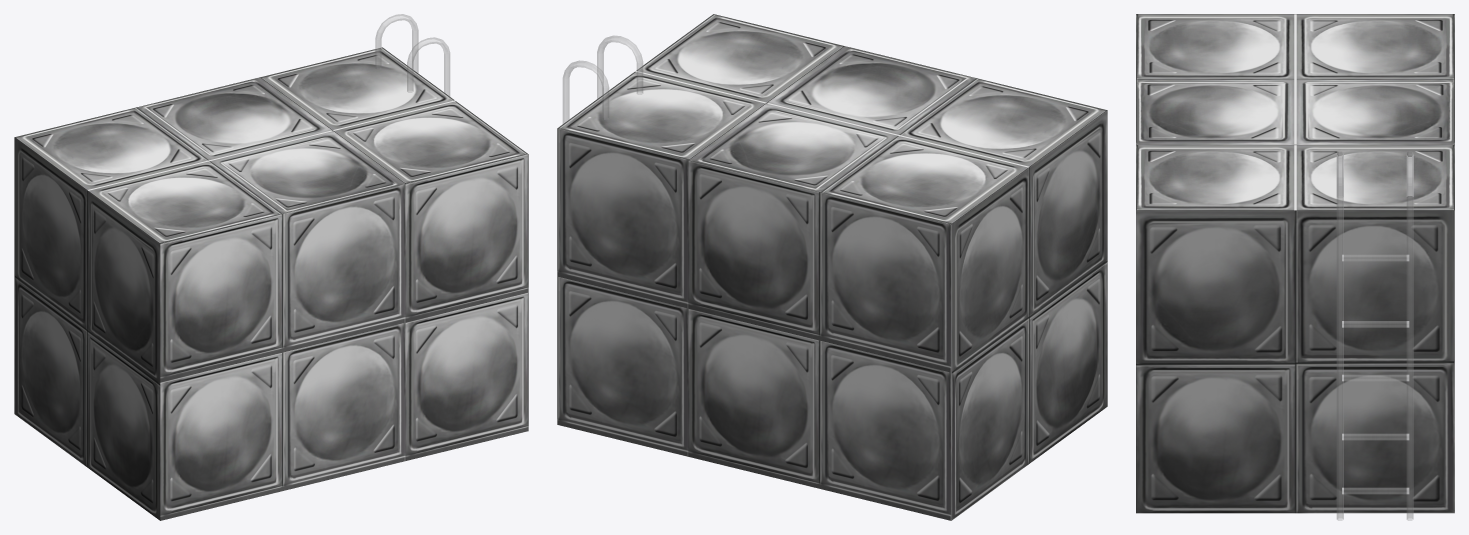
3 renders of one model, left to right at view 1: azimuth 30°, elevation 25°; view 2: azimuth 150°, elevation 25°; view 3: azimuth 270°, elevation 25°, orthographic. The views are drawn at different scales.
Parts seen in each view (by area): view 1: 水箱; view 2: 水箱; view 3: 水箱.
Part boxes in pixels (x1,y1,x2,y2): 水箱: [14, 14, 528, 520]; 水箱: [557, 14, 1107, 520]; 水箱: [1136, 14, 1454, 520].
Bounding box in the file's own units: 364 × 296 × 240.
2 materials, 2 textured.
